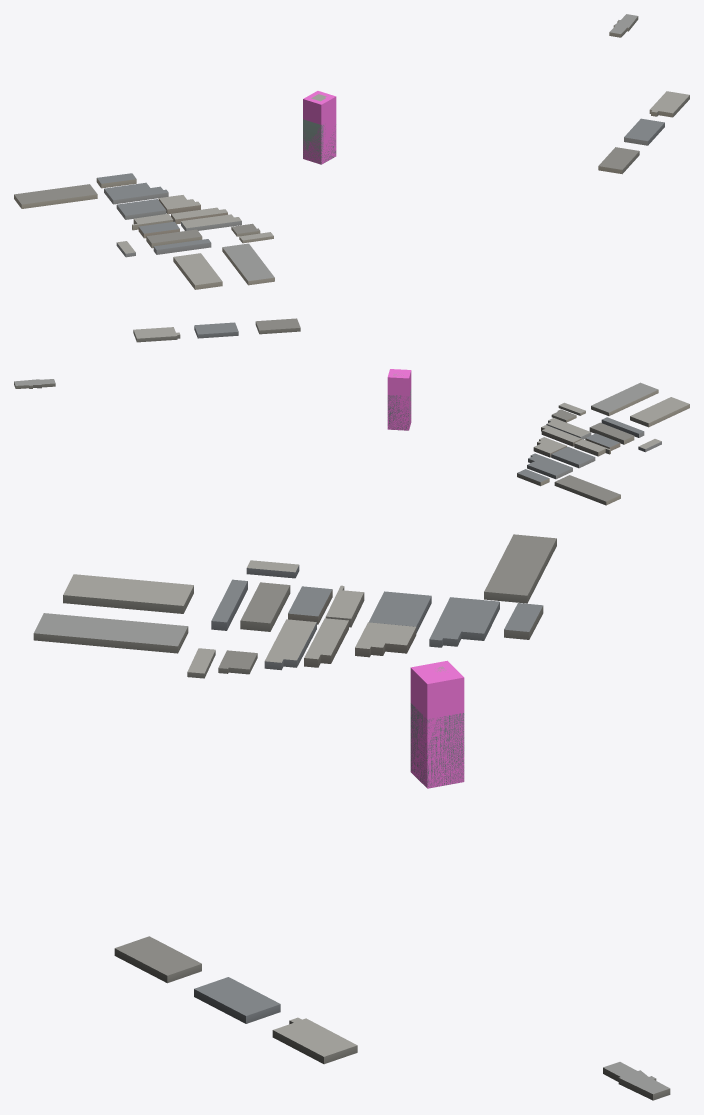
Rendered from bld_12_13.fbx.
3 renders of one model, top to bottom at view 1: azimuth 30°, elevation 25°; view 2: azimuth 150°, elevation 25°; view 3: azimuth 270°, elevation 25°, orthographic. The views are drawn at different scales.
Visible parts, largest first — view 1: bld_12_13_LOD0, bld_12_13_COL; view 2: bld_12_13_LOD0, bld_12_13_COL; view 3: bld_12_13_LOD0, bld_12_13_COL.
Boxes of the visible parts, x1,y1,x2,y2 form: bld_12_13_LOD0: (14, 14, 689, 289); bld_12_13_COL: (303, 91, 336, 164); bld_12_13_LOD0: (14, 318, 689, 505); bld_12_13_COL: (387, 369, 411, 430); bld_12_13_LOD0: (33, 534, 670, 1100); bld_12_13_COL: (410, 660, 464, 788).
Size of what is drawn, in the model's own units: 1904 by 166 by 917.
